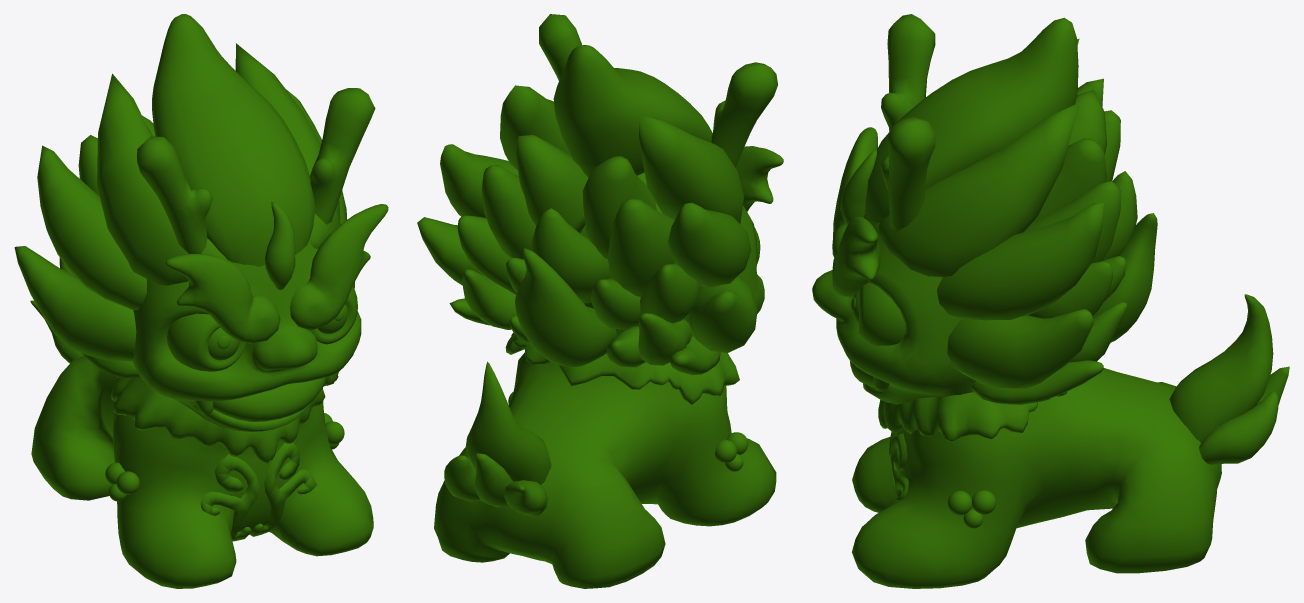
File: qilin.FBX
3 renders of one model, left to right at view 1: azimuth 30°, elevation 25°; view 2: azimuth 150°, elevation 25°; view 3: azimuth 270°, elevation 25°, orthographic. The views are drawn at different scales.
Parts seen in each view (by area): view 1: Object001, Object009; view 2: Object001, Object009; view 3: Object001, Object009.
Boxes of the visible parts, x1,y1,x2,y2 form: Object001: (14,14,375,588); Object009: (165,204,388,343); Object001: (417,14,777,588); Object009: (736,146,783,211); Object001: (812,14,1289,588); Object009: (832,127,880,296).
Bounding box in the file's own units: 0.00202 × 0.003 × 0.00251.
